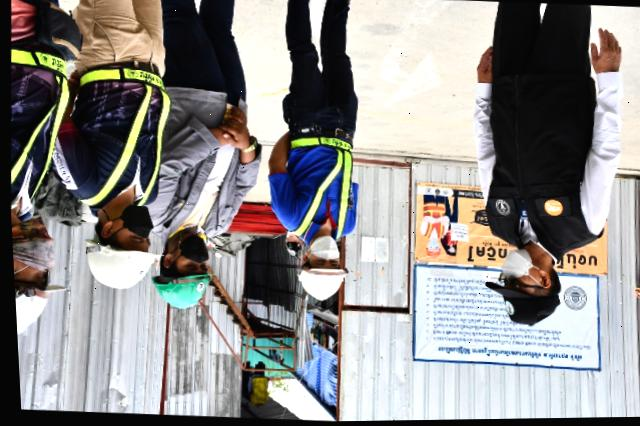helmet: (77, 247, 158, 300), (11, 279, 62, 344), (291, 263, 349, 307), (150, 271, 213, 311)
vest: (53, 68, 175, 218), (2, 39, 75, 211), (278, 137, 356, 248)
